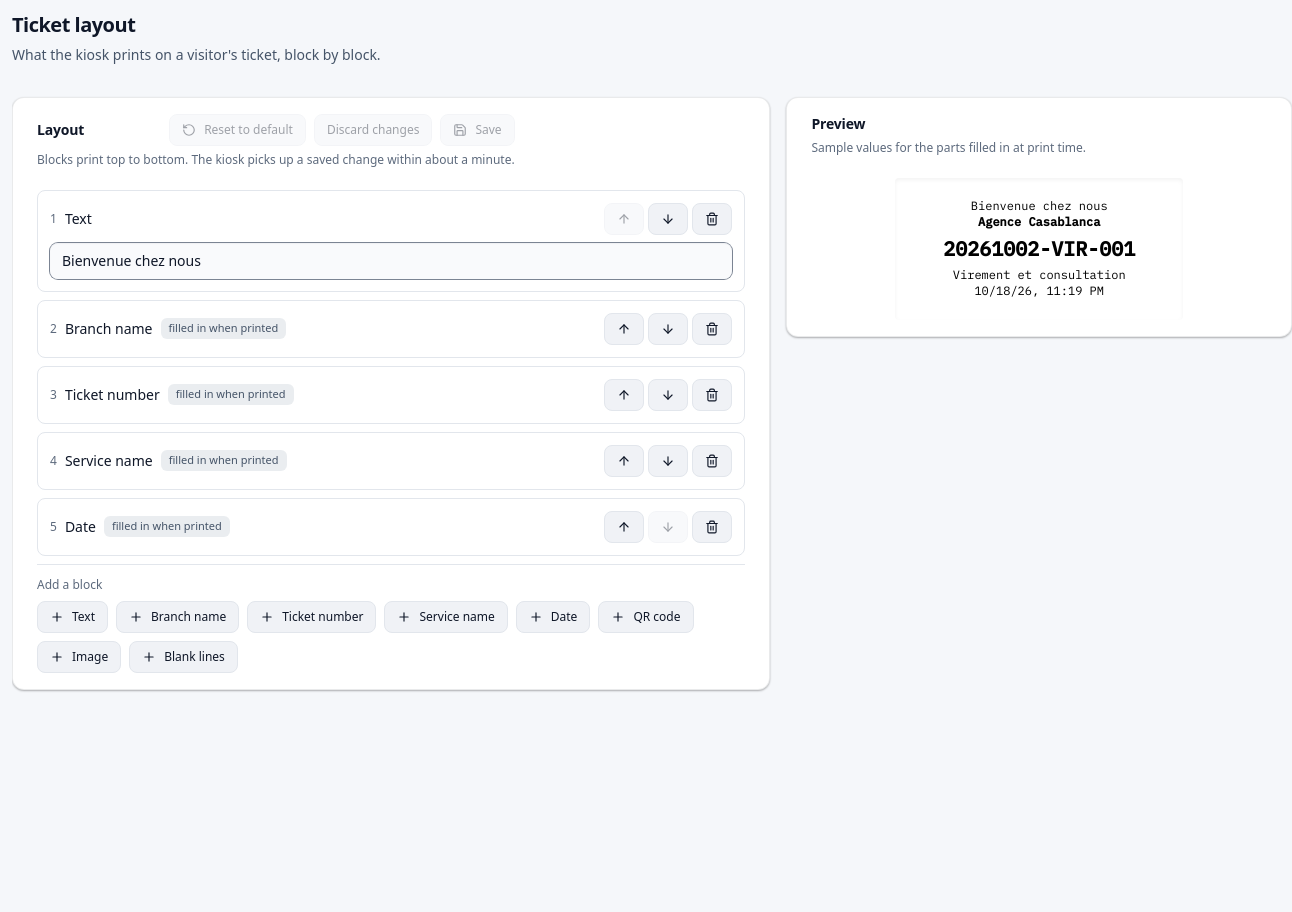
it: TicketTemplate › reorders blocks and the preview follows
Click the button named "move block 1, text down": point(668, 218) [648,202,688,234]
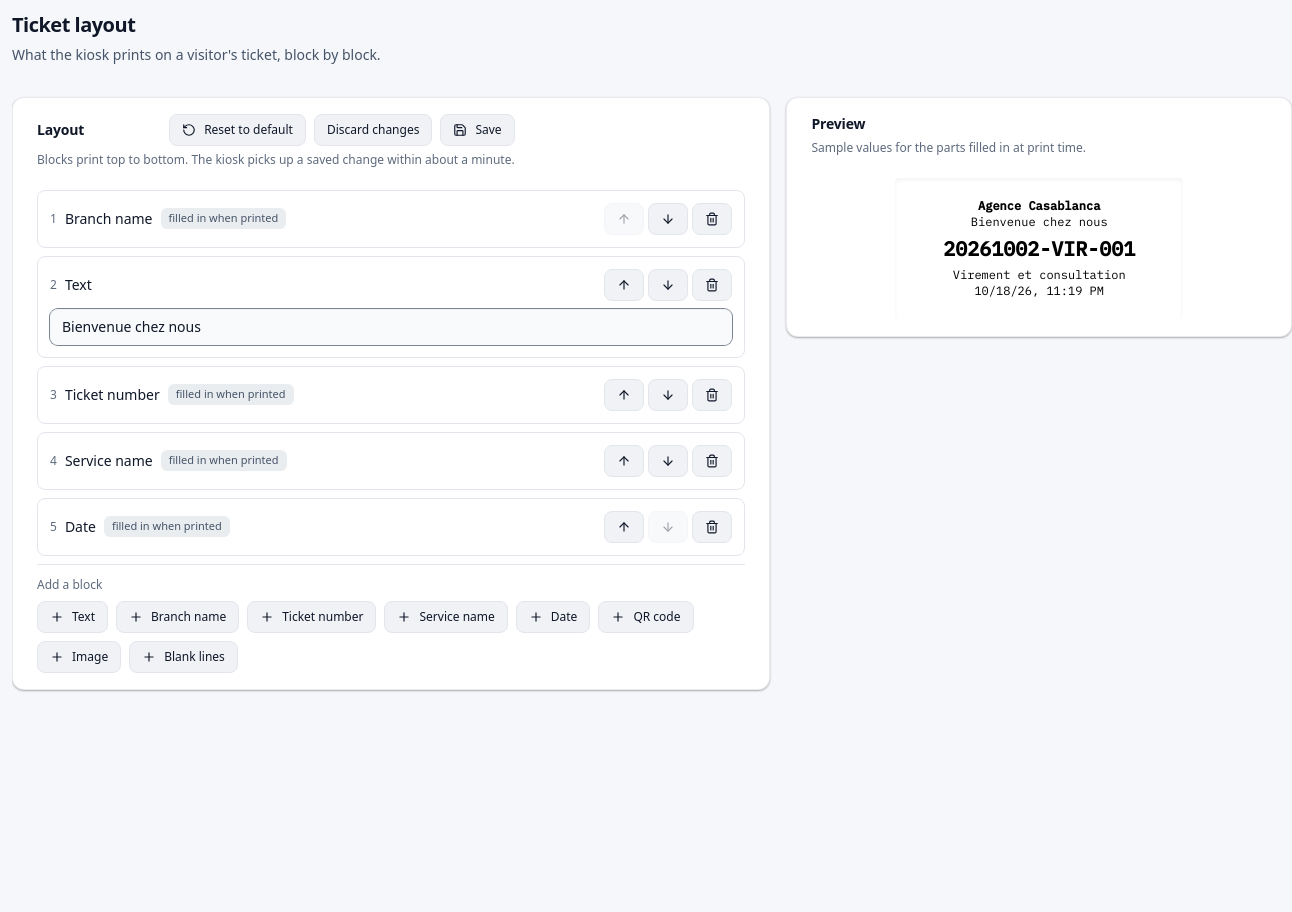
Expected: the button named "move block 1, branch name up" is disabled, [604,202,644,234]
Result: the text "Bienvenue chez nous" is gone
Result: the text "Bienvenue chez nous" is shown at [971,214,1108,229]
